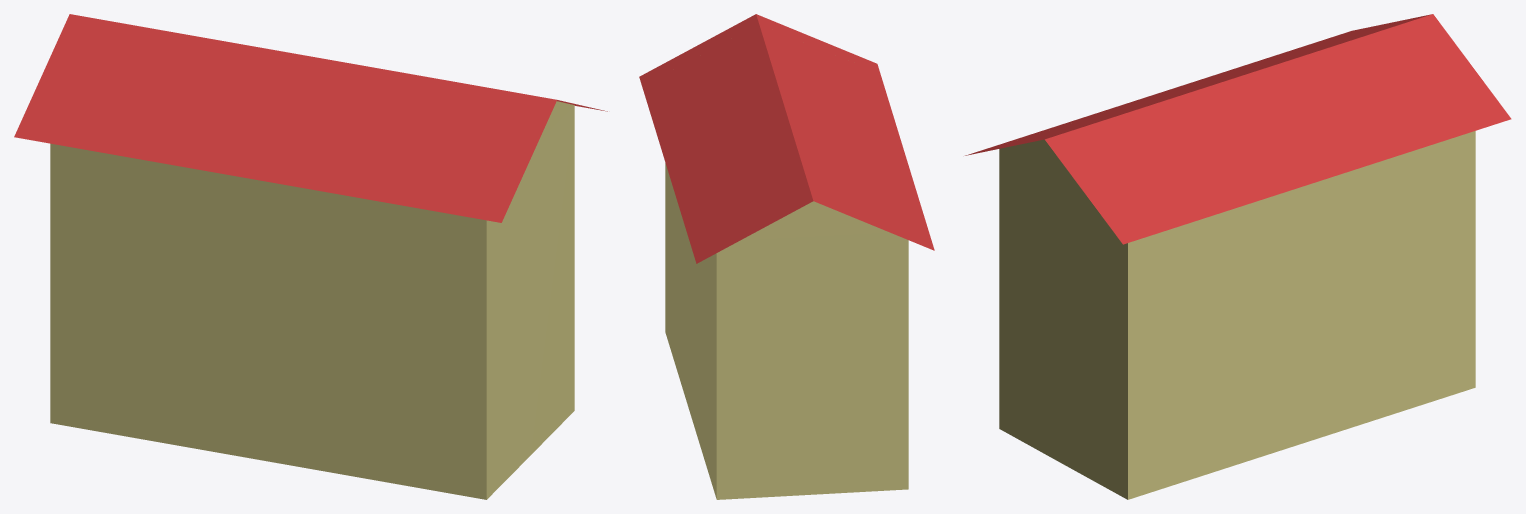
The picture shows the model from 3 angles, left to right: view 1: azimuth 30°, elevation 25°; view 2: azimuth 150°, elevation 25°; view 3: azimuth 270°, elevation 25°; orthographic projection. The views are drawn at different scales.
Size of the model in its own units: 14.78 by 16.01 by 10.71.
